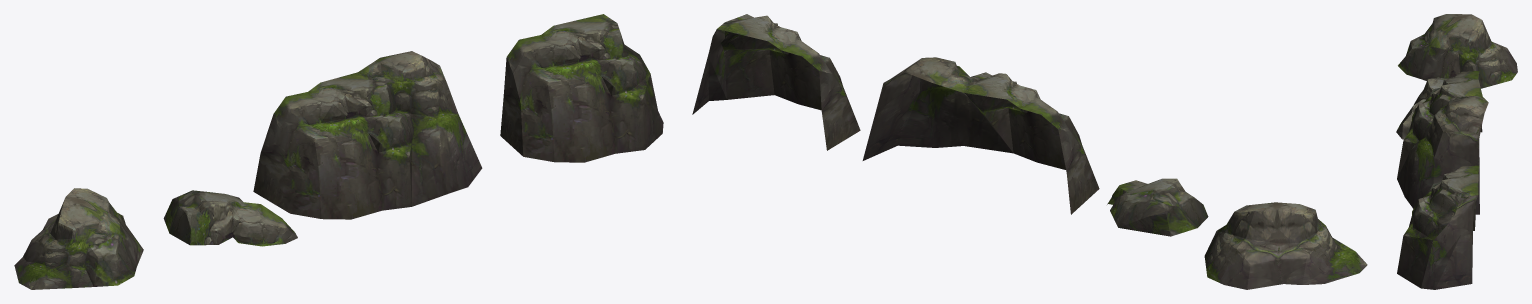
The model's file is d_1156_stone01.FBX.
3 renders of one model, left to right at view 1: azimuth 30°, elevation 25°; view 2: azimuth 150°, elevation 25°; view 3: azimuth 270°, elevation 25°, orthographic. The views are drawn at different scales.
Parts seen in each view (by area): view 1: MWCL_wj_stone_001, MWCL_wj_stone_004, MWCL_wj_stone_003, MWCL_wj_stone_002; view 2: MWCL_wj_stone_001, MWCL_wj_stone_004, MWCL_wj_stone_003, MWCL_wj_stone_002; view 3: MWCL_wj_stone_001, MWCL_wj_stone_004, MWCL_wj_stone_003, MWCL_wj_stone_002.
Boxes of the visible parts, x1=… form: MWCL_wj_stone_001: x1=253, y1=51, x2=482, y2=219; MWCL_wj_stone_004: x1=500, y1=14, x2=663, y2=162; MWCL_wj_stone_003: x1=14, y1=188, x2=143, y2=289; MWCL_wj_stone_002: x1=163, y1=190, x2=297, y2=246; MWCL_wj_stone_001: x1=862, y1=57, x2=1099, y2=214; MWCL_wj_stone_004: x1=692, y1=14, x2=860, y2=150; MWCL_wj_stone_003: x1=1204, y1=202, x2=1367, y2=289; MWCL_wj_stone_002: x1=1107, y1=178, x2=1208, y2=236; MWCL_wj_stone_001: x1=1397, y1=71, x2=1488, y2=214; MWCL_wj_stone_004: x1=1397, y1=165, x2=1479, y2=289; MWCL_wj_stone_003: x1=1398, y1=14, x2=1517, y2=88; MWCL_wj_stone_002: x1=1396, y1=77, x2=1447, y2=139.
Bounding box in the file's own units: 3561 × 624 × 705.
Materials: 1 (1 with a texture image).
